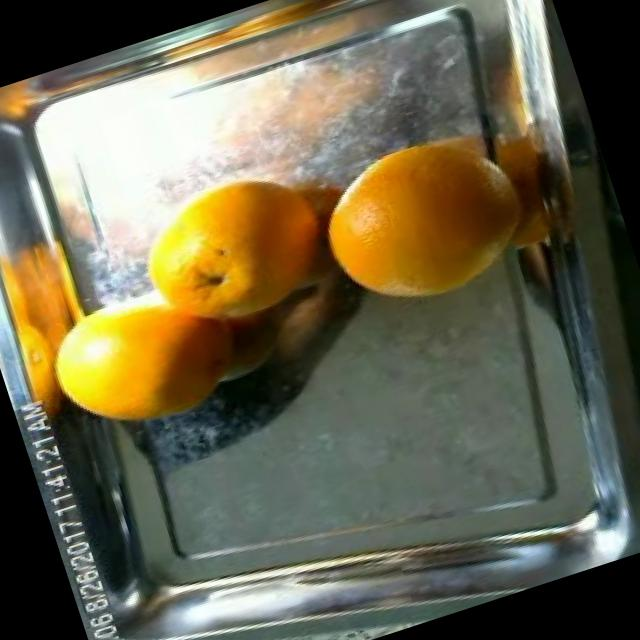Fruit: (23, 263, 252, 467), (0, 213, 119, 384)
